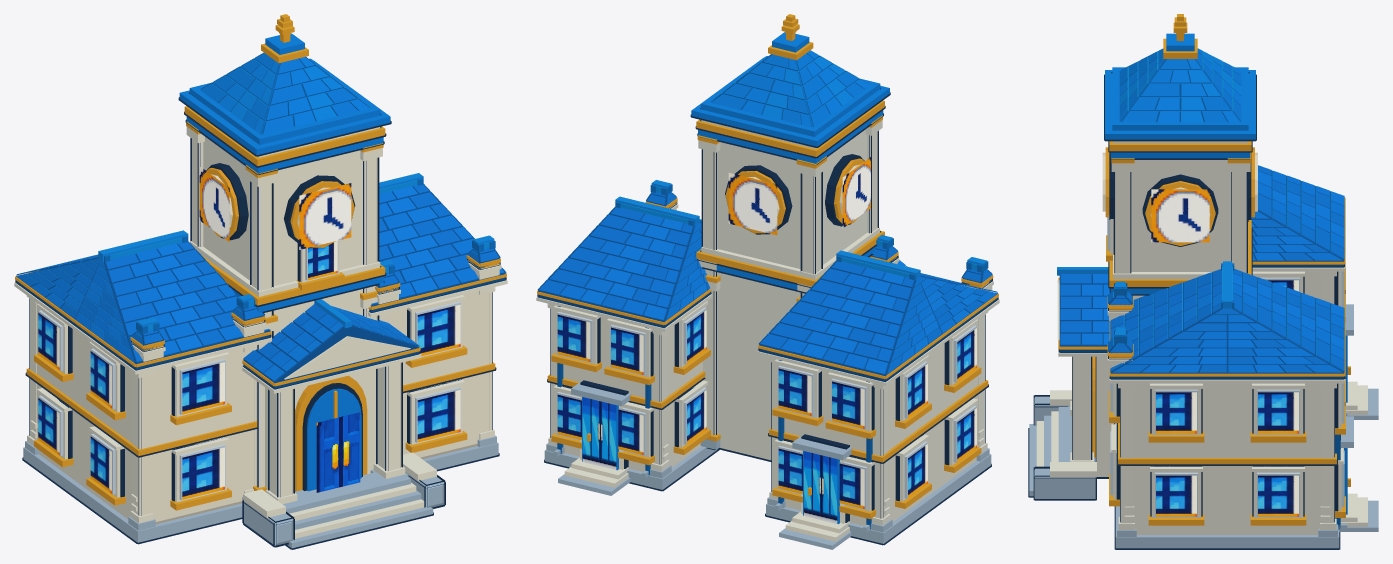
3 renders of one model, left to right at view 1: azimuth 30°, elevation 25°; view 2: azimuth 150°, elevation 25°; view 3: azimuth 270°, elevation 25°, orthographic. The views are drawn at different scales.
Parts seen in each view (by area): view 1: B01 市政厅; view 2: B01 市政厅; view 3: B01 市政厅.
Boxes of the visible parts, x1,y1,x2,y2 form: B01 市政厅: [14, 14, 507, 549]; B01 市政厅: [536, 14, 999, 549]; B01 市政厅: [1028, 14, 1378, 549].
Bounding box in the file's own units: 9.19 × 10.82 × 7.66.
Materials: 2 (1 with a texture image).
